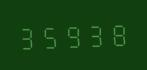eight: (106, 18, 127, 48)
five: (40, 21, 61, 50)
nine: (62, 20, 83, 49)
three: (18, 21, 39, 51), (84, 19, 105, 48)
